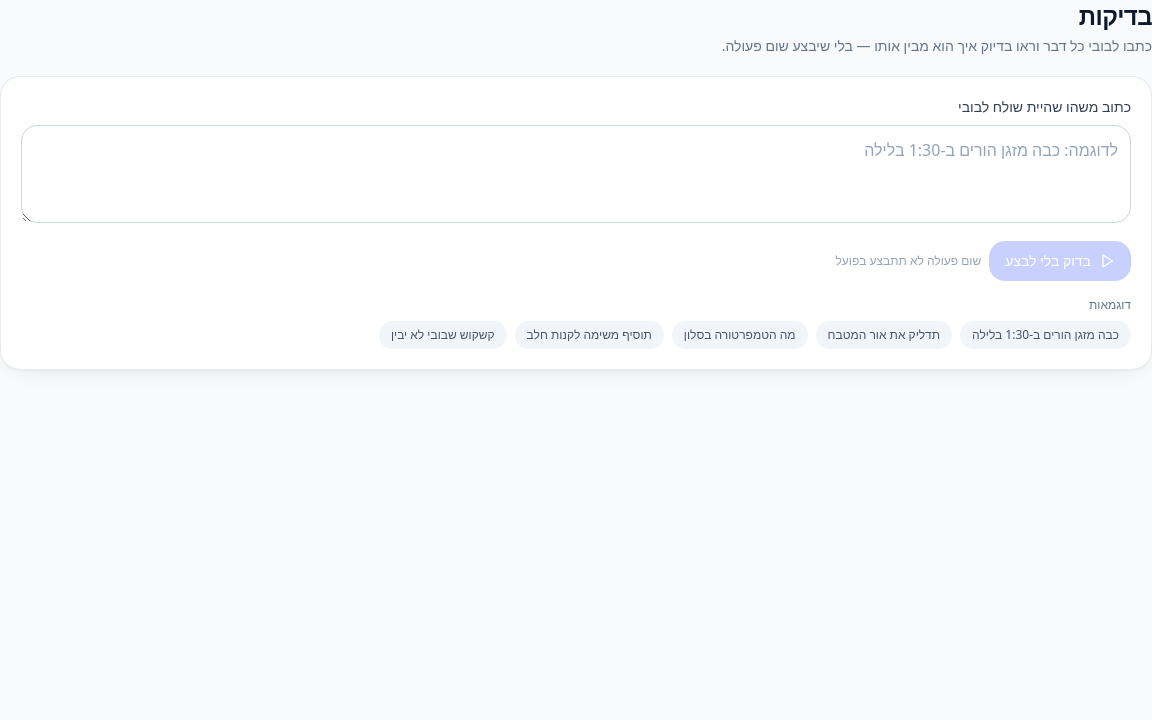
Test case: TestCenterPage › displays the required probe-only banner prominently
Type "כבה מזגן הורים" into the text box labelled "כתוב משהו שהיית שולח לבובי".
click(576, 174); type("כבה מזגן הורים")  # box [21, 125, 1131, 223]
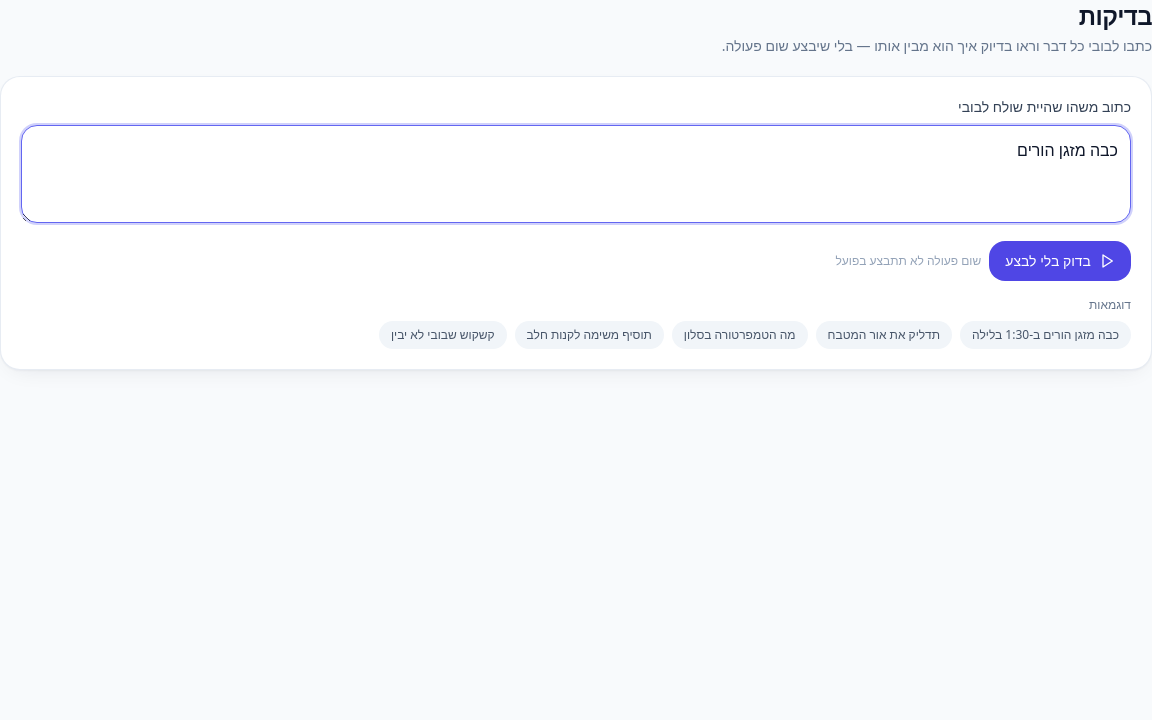
Click the button "בדוק בלי לבצע".
click(1060, 261)  # box [989, 241, 1131, 281]
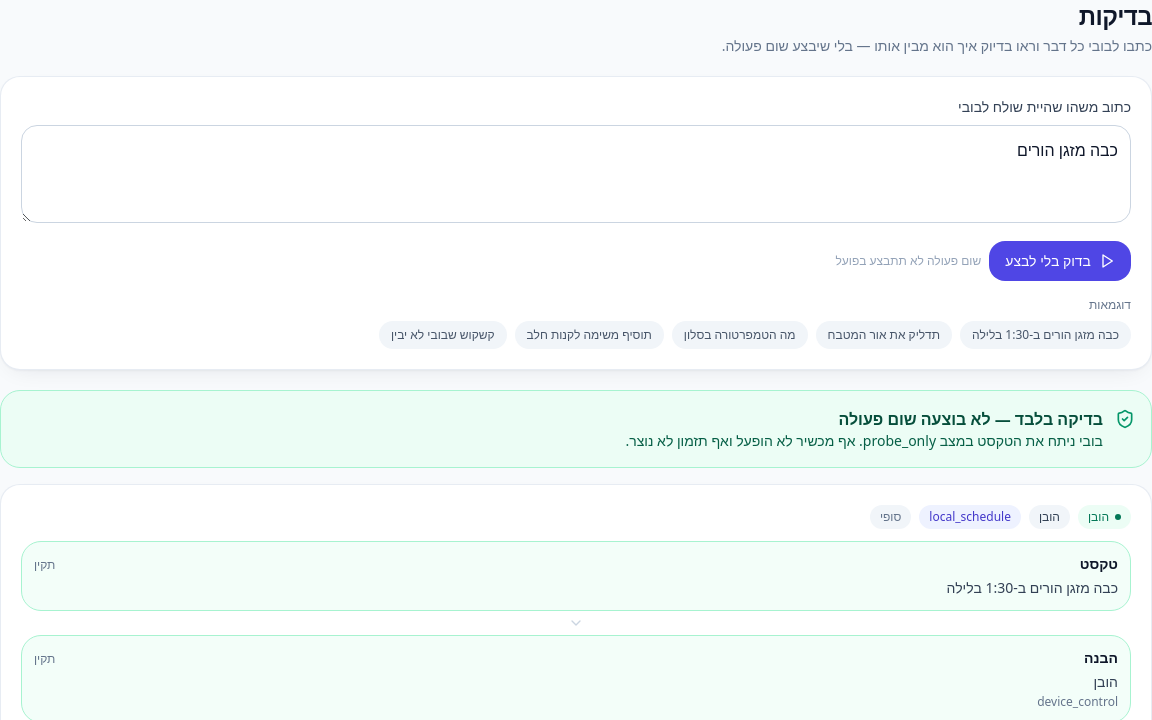
expect the text "בדיקה בלבד — לא בוצעה שום פעולה" is shown: met, box [838, 408, 1103, 430]
